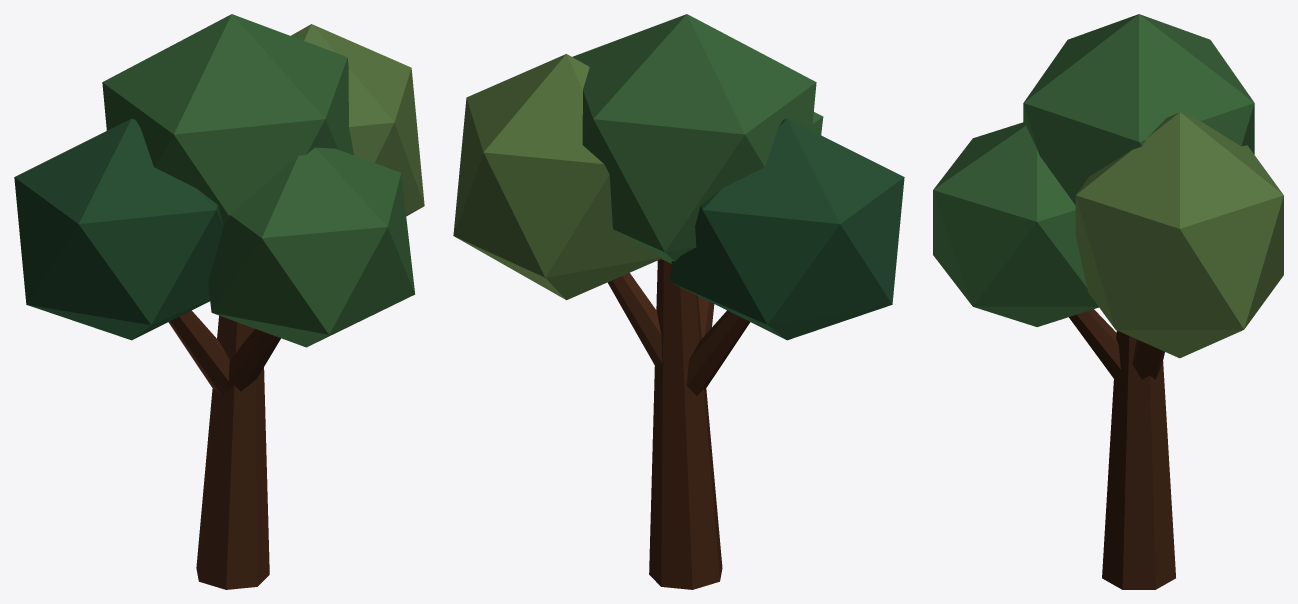
The model's file is broadleaf.glb.
The picture shows the model from 3 angles, left to right: view 1: azimuth 30°, elevation 25°; view 2: azimuth 150°, elevation 25°; view 3: azimuth 270°, elevation 25°; orthographic projection.
Parts seen in each view (by area): view 1: broadleaf; view 2: broadleaf; view 3: broadleaf.
Part boxes in pixels (bbox=[...]): broadleaf: bbox=[14, 14, 424, 589]; broadleaf: bbox=[453, 14, 904, 589]; broadleaf: bbox=[933, 14, 1283, 589].
Size of the model in its own units: 3.44 by 4.56 by 2.58.
Materials: 1 (1 with a texture image).
